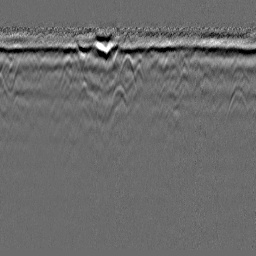cavity: (116, 52, 137, 89)
